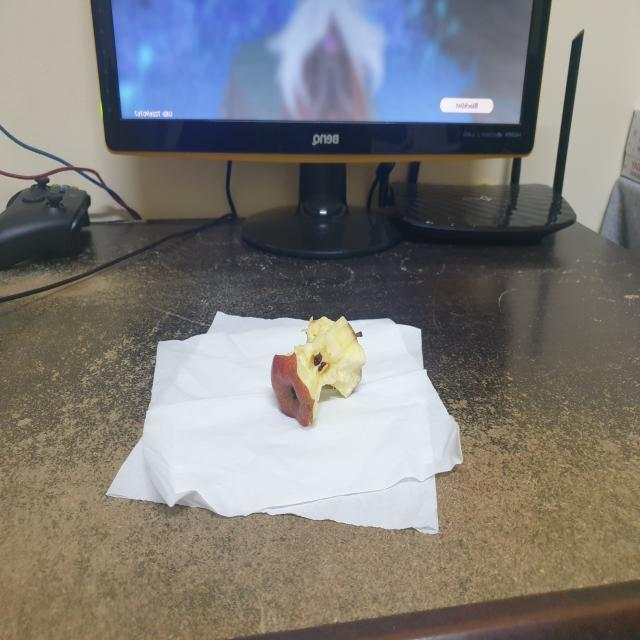apple: (265, 308, 365, 436)
